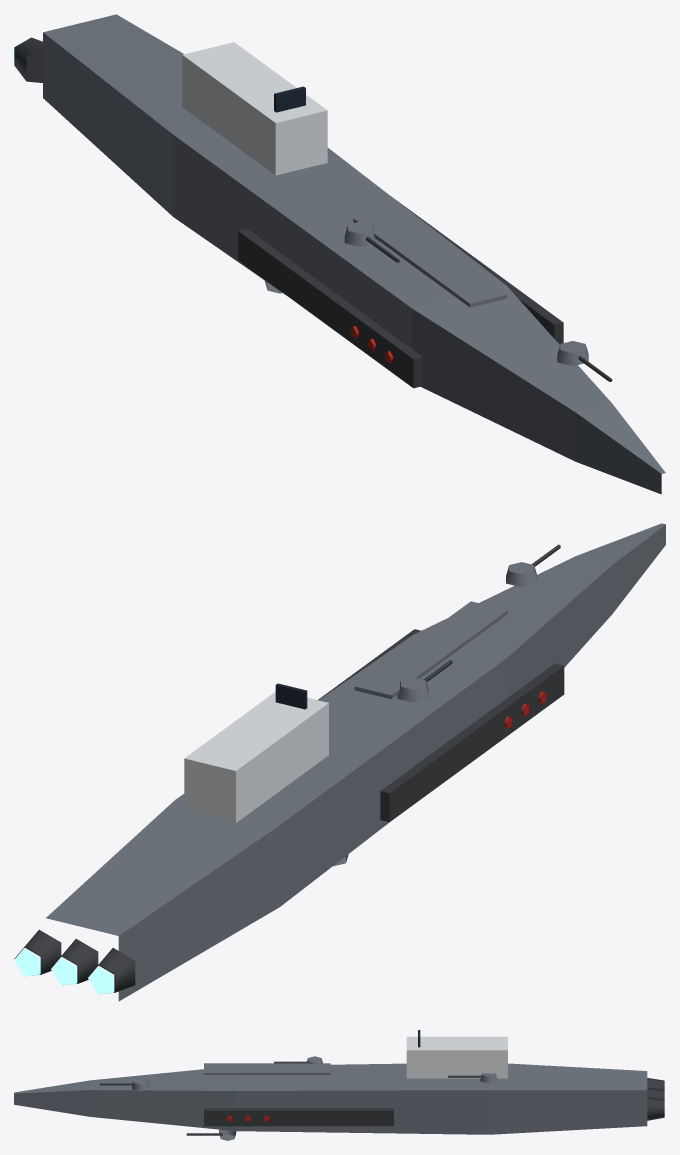
File: space_ship_destroyer_mk3_lod1.glb
3 renders of one model, top to bottom at view 1: azimuth 30°, elevation 25°; view 2: azimuth 150°, elevation 25°; view 3: azimuth 270°, elevation 25°, orthographic. The views are drawn at different scales.
Visible parts, largest first — view 1: body, engine_0, turret_0, turret_2; view 2: body, engine_0, engine_1, engine_2, turret_0, turret_2; view 3: body, engine_2, turret_0, turret_1, turret_4, turret_2, engine_0, engine_1.
Boxes of the visible parts, x1=… form: body: x1=43, y1=14, x2=665, y2=494; engine_0: x1=14, y1=37, x2=42, y2=82; turret_0: x1=557, y1=341, x2=612, y2=381; turret_2: x1=344, y1=221, x2=399, y2=262; body: x1=46, y1=523, x2=665, y2=1001; engine_0: x1=88, y1=948, x2=135, y2=994; engine_1: x1=51, y1=939, x2=98, y2=985; engine_2: x1=14, y1=929, x2=61, y2=976; turret_0: x1=506, y1=544, x2=560, y2=587; turret_2: x1=397, y1=660, x2=452, y2=702; body: x1=14, y1=1030, x2=647, y2=1134; engine_2: x1=647, y1=1097, x2=665, y2=1120; turret_0: x1=99, y1=1078, x2=149, y2=1091; turret_1: x1=186, y1=1129, x2=236, y2=1140; turret_4: x1=448, y1=1073, x2=497, y2=1083; turret_2: x1=274, y1=1056, x2=322, y2=1064; engine_0: x1=647, y1=1078, x2=665, y2=1090; engine_1: x1=647, y1=1087, x2=665, y2=1100.
Bounding box in the file's own units: 8.4 × 9.21 × 56.18.
